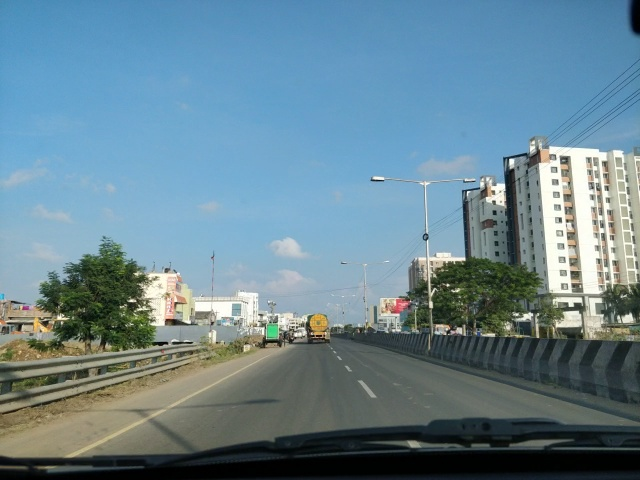motorbike: (264, 322, 278, 341)
truck: (305, 314, 331, 340)
